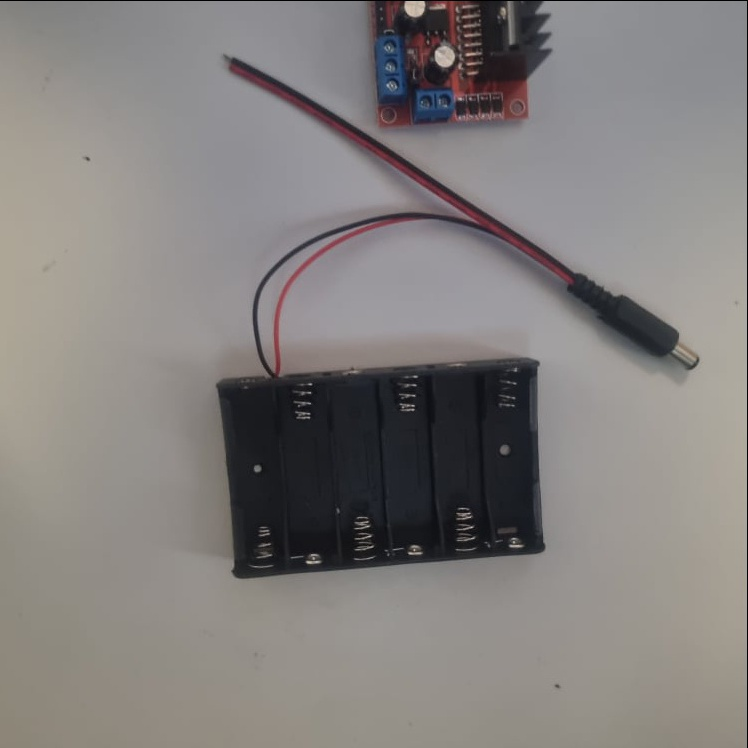BATTERY BOX: (215, 359, 546, 579)
MOTOR: (373, 0, 555, 131)
